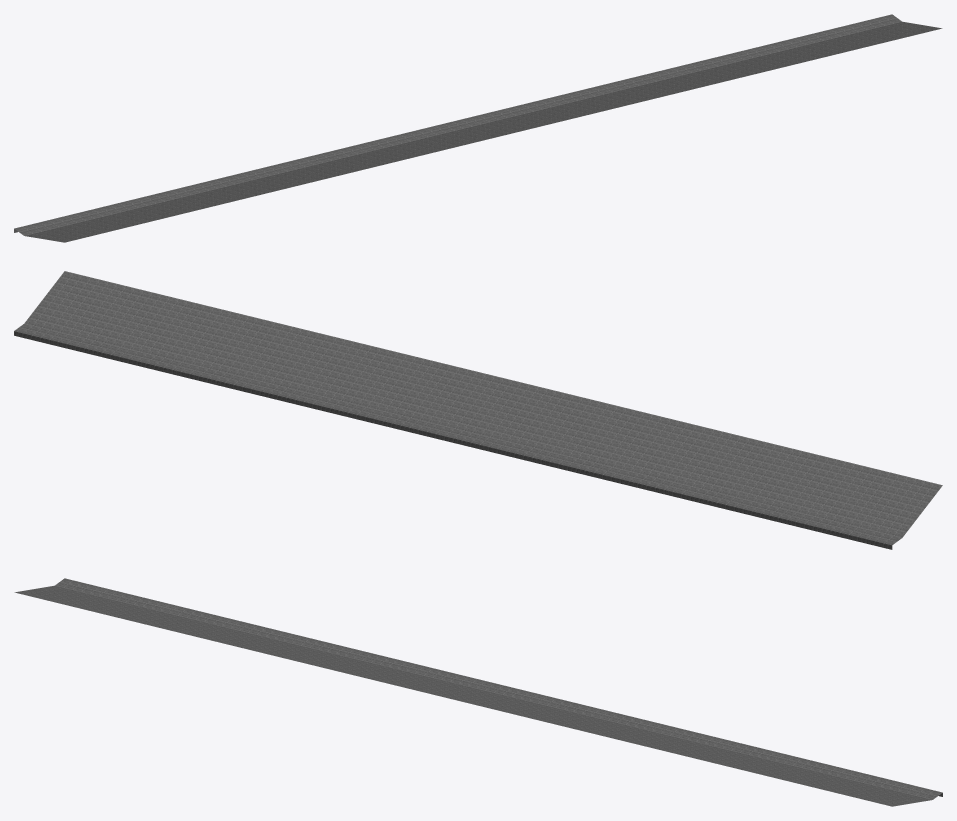
File: prologue-grass-col.glb
3 renders of one model, top to bottom at view 1: azimuth 30°, elevation 25°; view 2: azimuth 150°, elevation 25°; view 3: azimuth 330°, elevation 25°, orthographic.
Parts seen in each view (by area): view 1: grass-col; view 2: grass-col; view 3: grass-col.
Boxes of the visible parts, bbox=[...] form: grass-col: bbox=[14, 14, 942, 242]; grass-col: bbox=[14, 271, 942, 549]; grass-col: bbox=[14, 578, 942, 806].
Size of the model in its own units: 200 by 6 by 20.
Materials: 1 (1 with a texture image).
